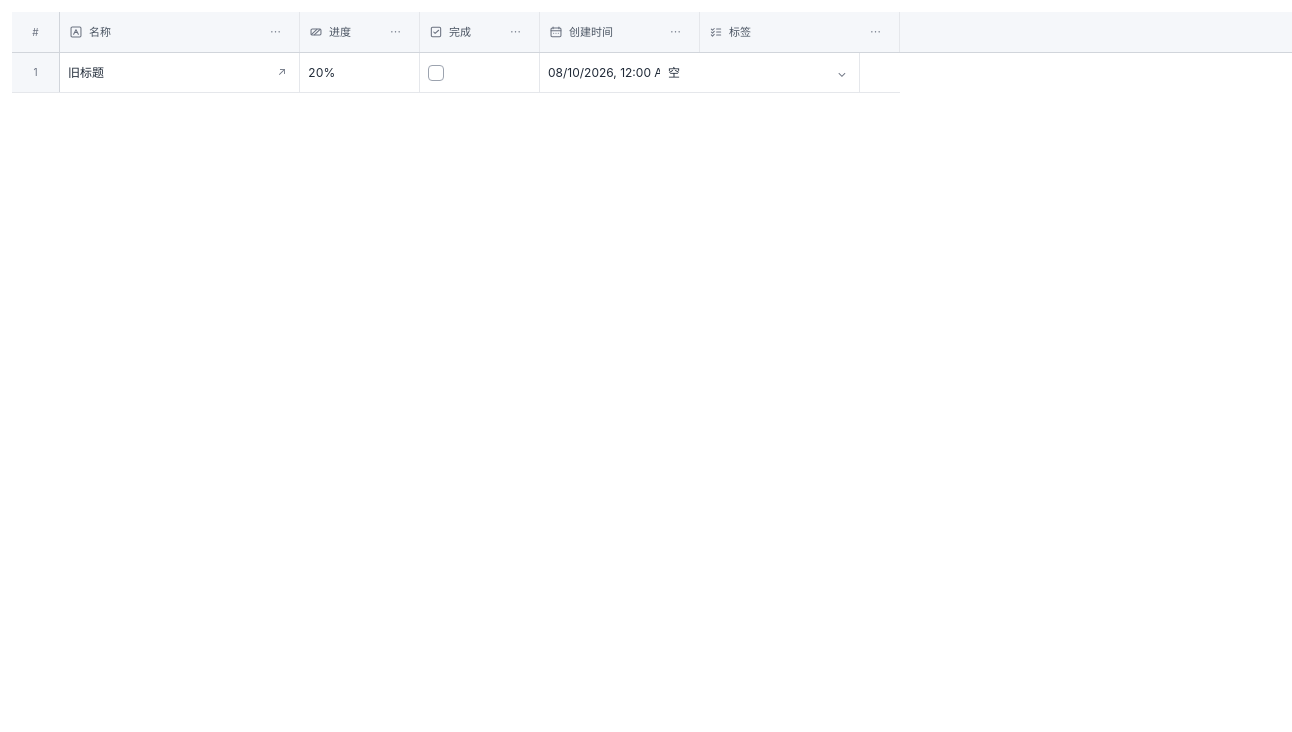
Test: DataGrid Phase 37 交互 › 复选框是直接操作例外，只读字段保持可选并给出原因
The image size is (1292, 732).
Click the button named "切换完成" at [436, 72], box left=428, top=64, right=444, bottom=80
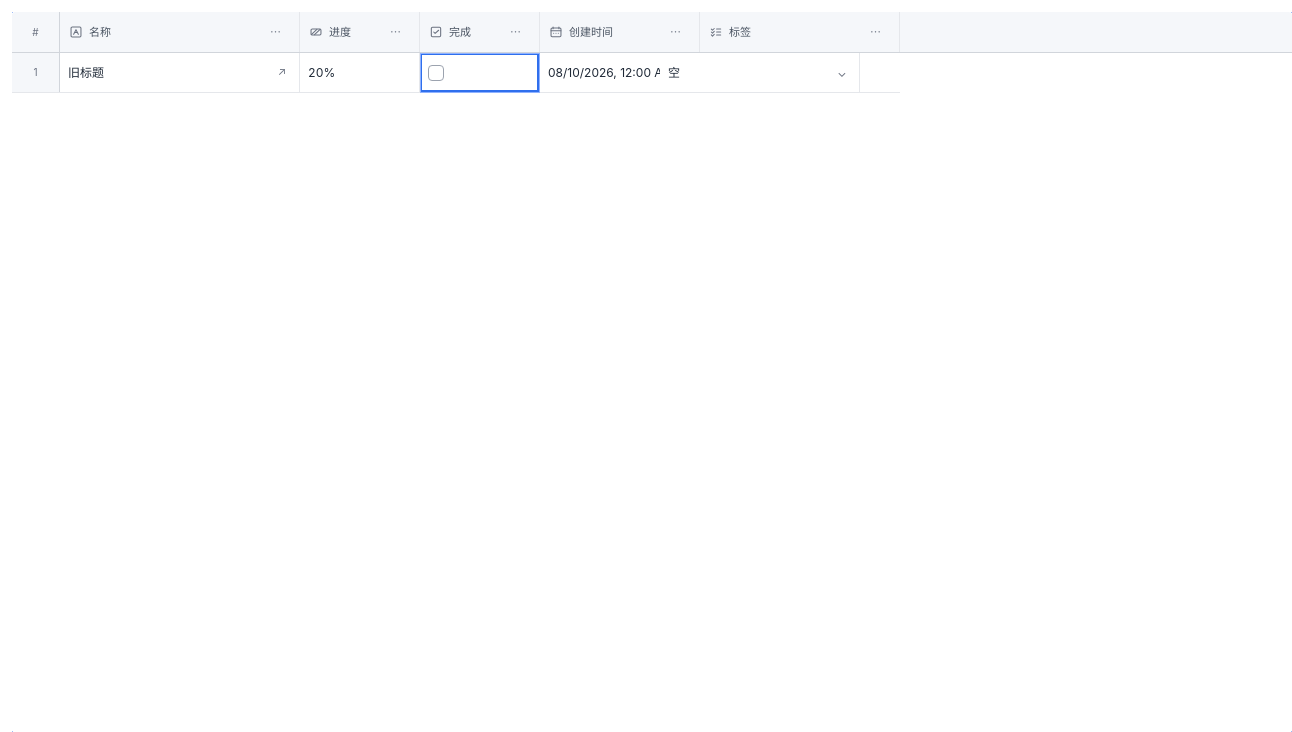
Double-click the cell "08/10/2026, 12:00 AM" at [611, 72], box left=548, top=64, right=674, bottom=80
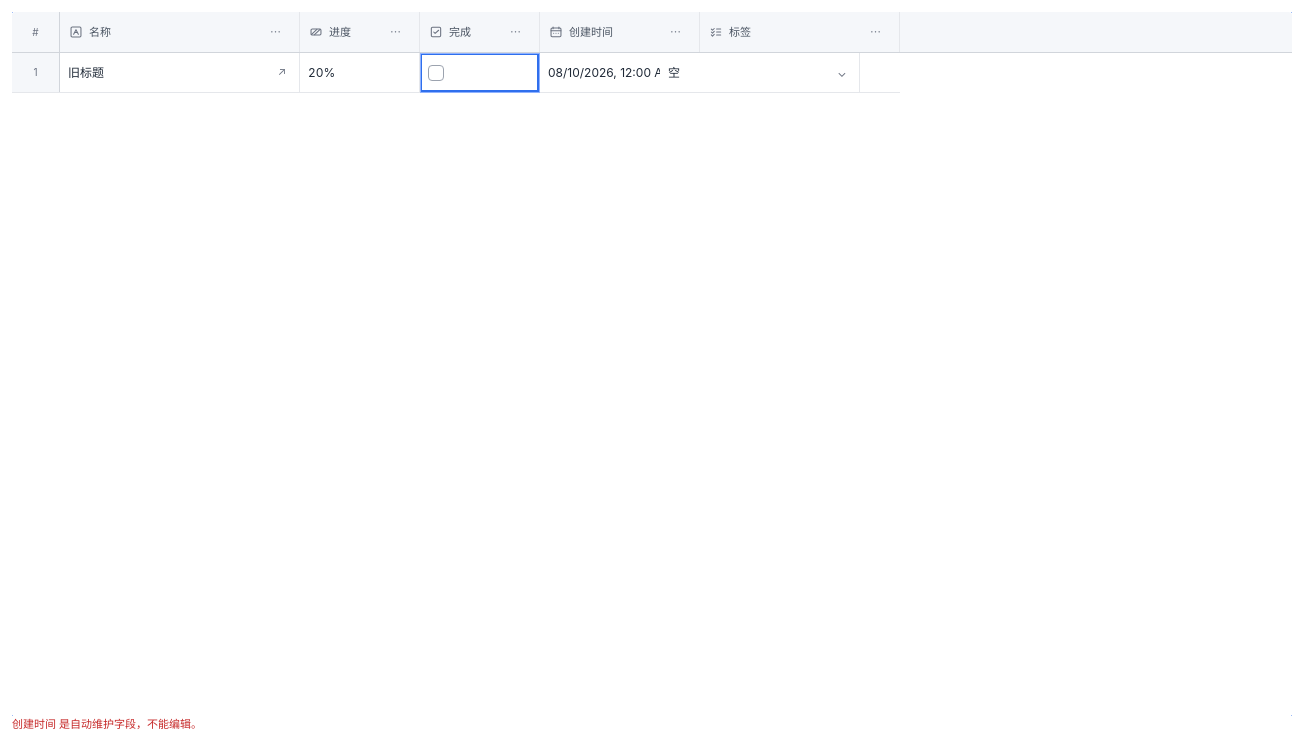
Now the text "创建时间 是自动维护字段，不能编辑。" is shown, box left=12, top=716, right=202, bottom=730
